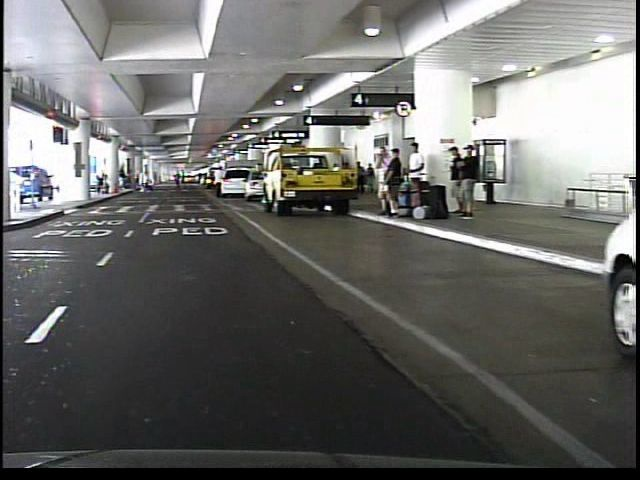person: (456, 144, 474, 219), (369, 143, 387, 215), (129, 163, 144, 197), (208, 165, 218, 199)
